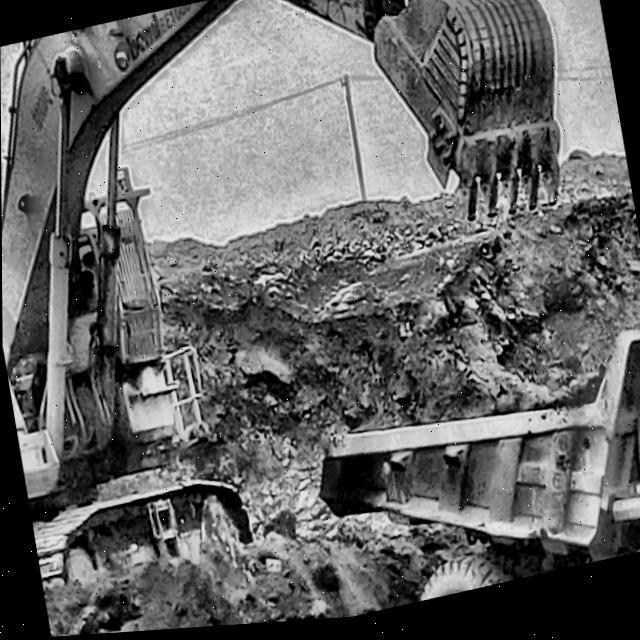dump_truck: (318, 339, 640, 608)
excavator: (1, 0, 258, 583), (265, 0, 563, 227)
